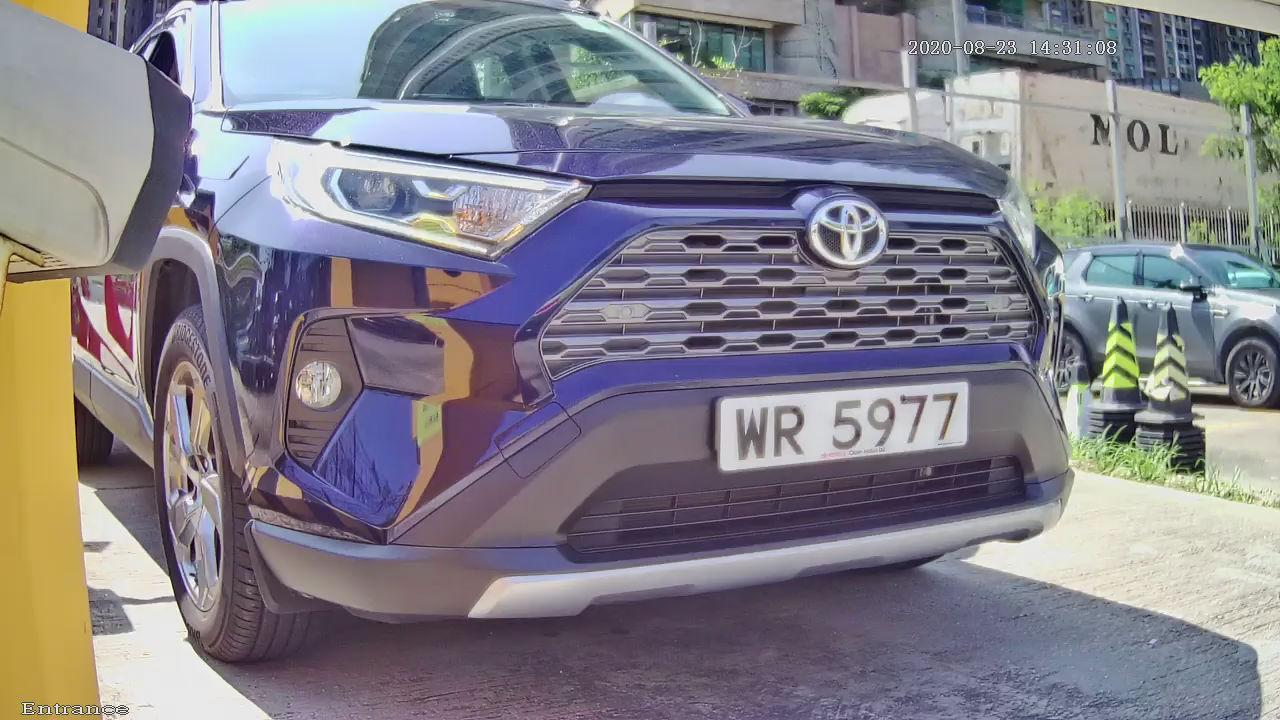Car: (29, 7, 1183, 711)
License Plate: (657, 321, 1027, 523)
